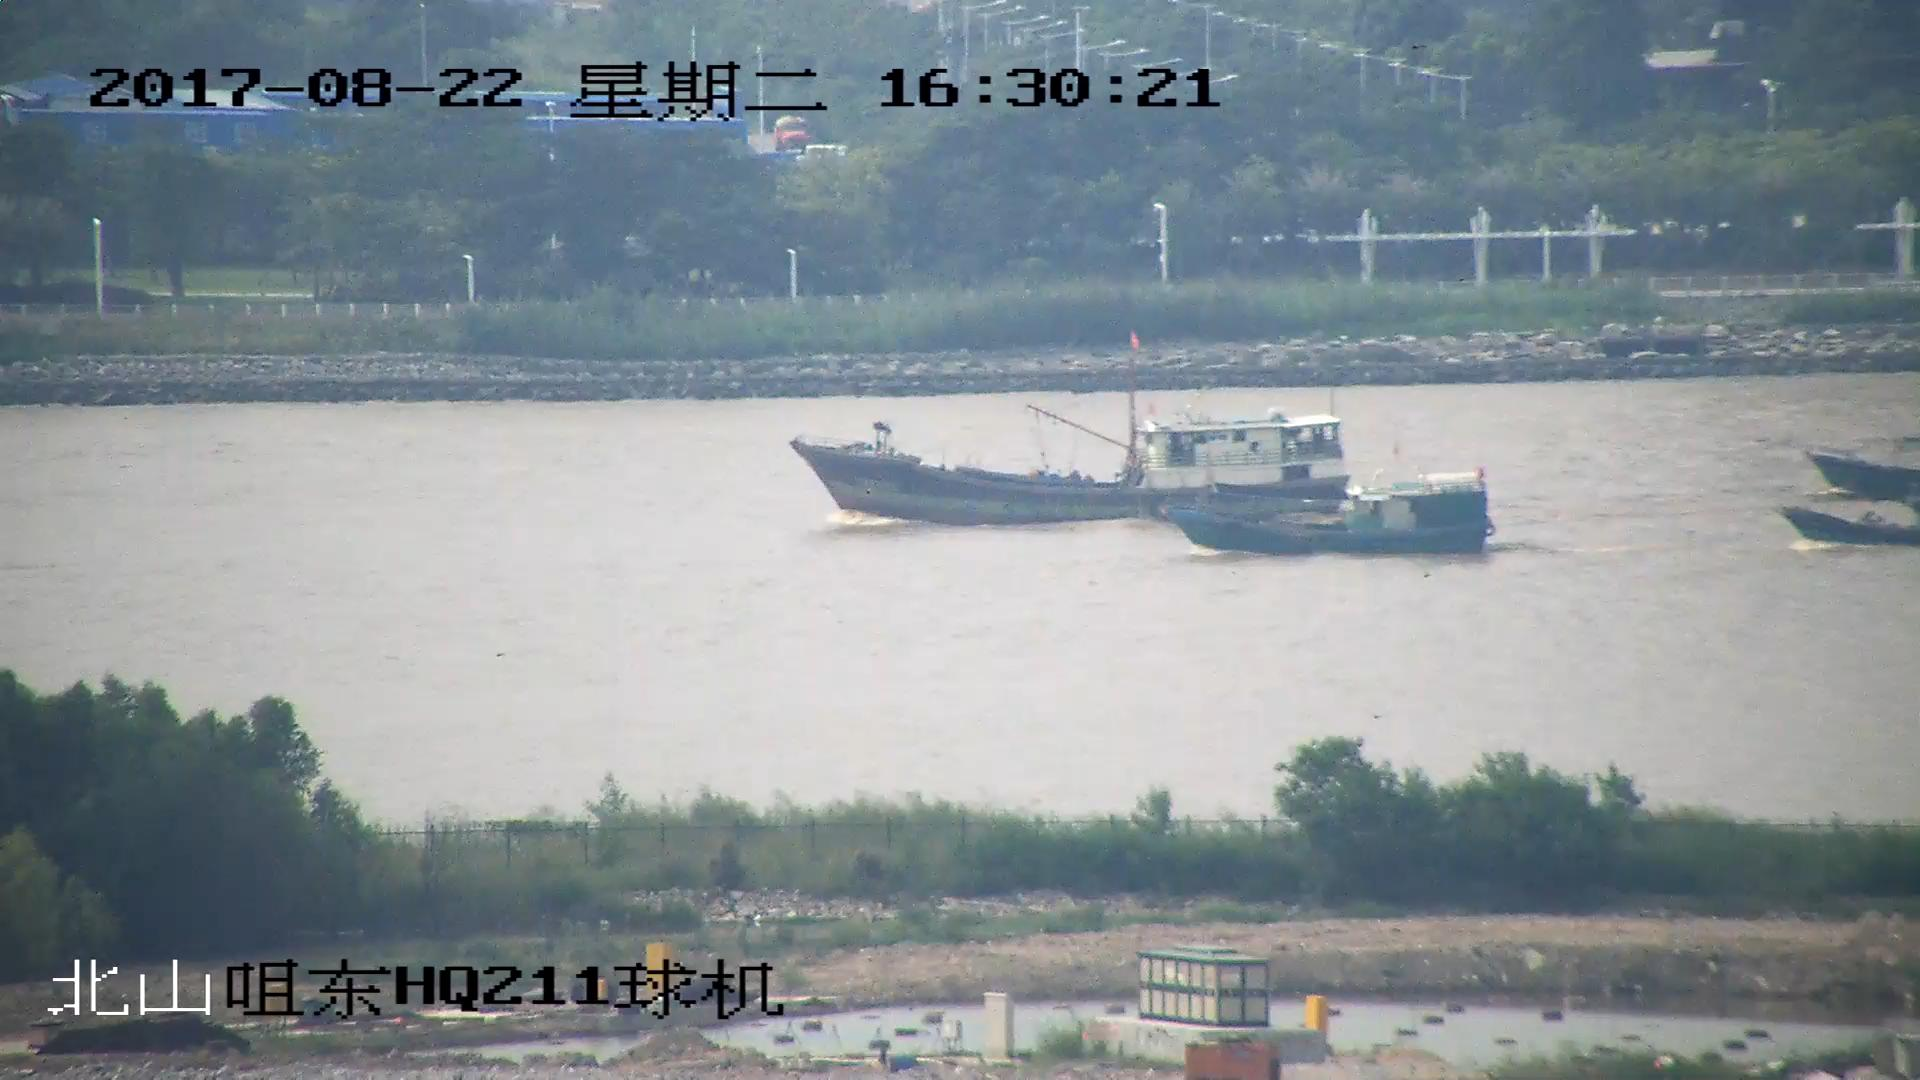fishing boat: (795, 327, 1351, 525), (1165, 471, 1489, 559), (1780, 507, 1920, 552), (1816, 444, 1920, 498)
